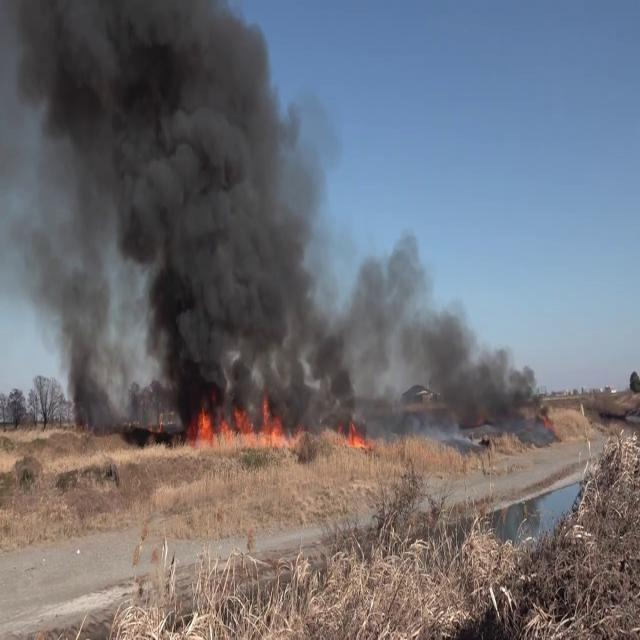Fire: (183, 391, 299, 452), (337, 410, 371, 450)
Smoke: (15, 0, 316, 423), (321, 232, 552, 434)
